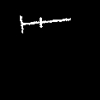double_crochet: (20, 16, 69, 32)
